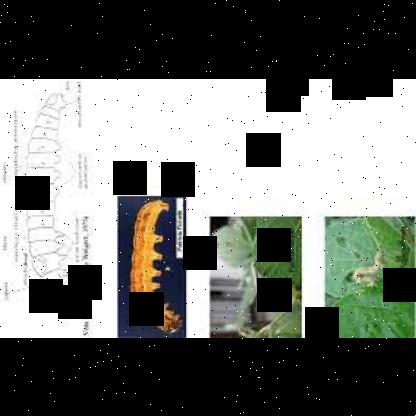agujero: (332, 233, 352, 249), (342, 272, 362, 288), (349, 249, 363, 256)
oruga: (355, 245, 393, 286), (247, 258, 266, 306)
